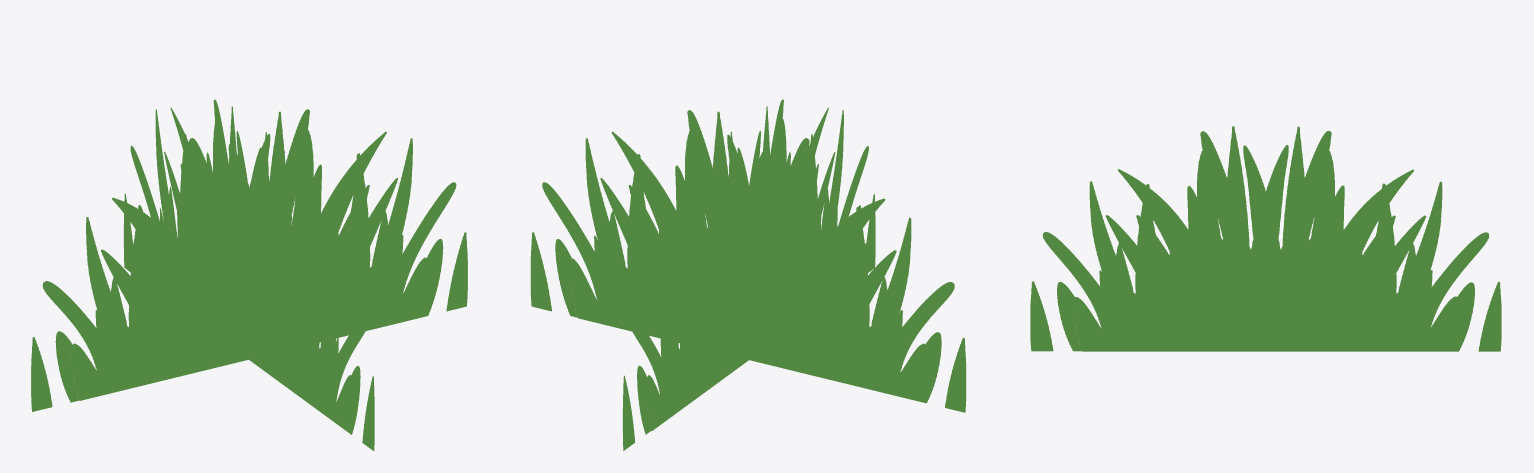
The model's file is Grass_02.fbx.
3 views of the same model, side by side, from view 1: azimuth 30°, elevation 25°; view 2: azimuth 150°, elevation 25°; view 3: azimuth 270°, elevation 25° (orthographic). The views are drawn at different scales.
Visible parts, largest first — view 1: Grass_02_LOD0; view 2: Grass_02_LOD0; view 3: Grass_02_LOD0.
Part boxes in pixels (x1=…): Grass_02_LOD0: x1=31, y1=99, x2=467, y2=450; Grass_02_LOD0: x1=530, y1=99, x2=966, y2=450; Grass_02_LOD0: x1=1030, y1=126, x2=1501, y2=351.
Size of what is drawn, in the model's own units: 0.5621 by 0.2817 by 0.5621.
